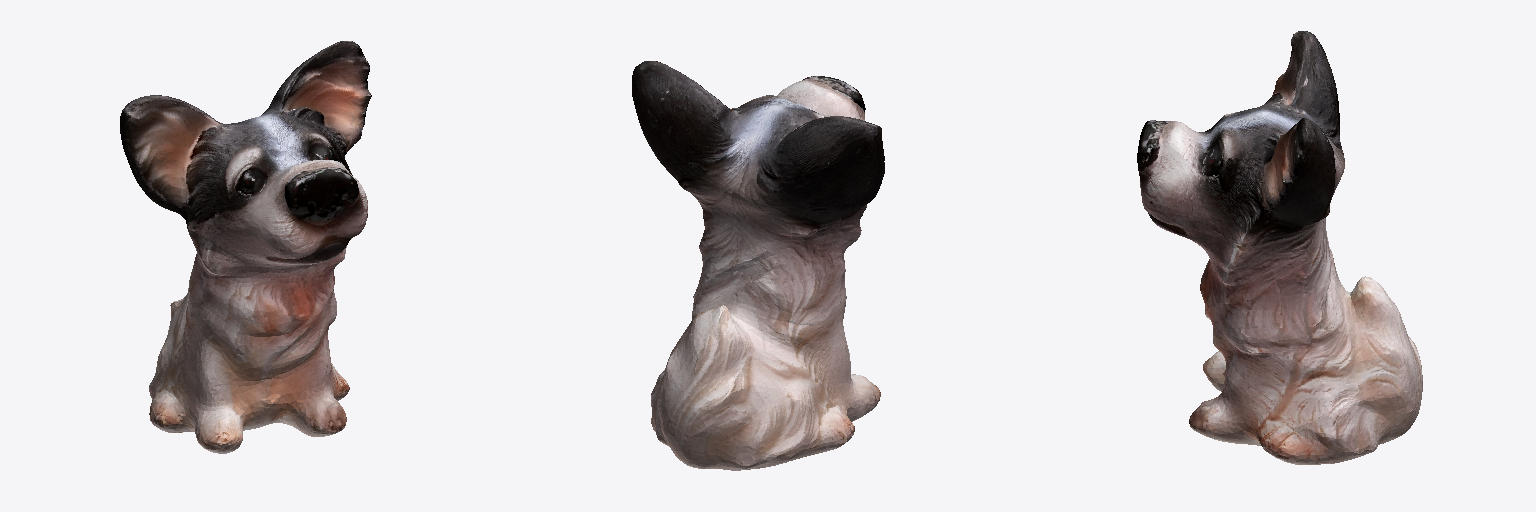
The picture shows the model from 3 angles: view 1: azimuth 30°, elevation 25°; view 2: azimuth 150°, elevation 25°; view 3: azimuth 270°, elevation 25°; orthographic projection.
Visible parts, largest first — view 1: Foto3Dmesh; view 2: Foto3Dmesh; view 3: Foto3Dmesh.
Boxes of the visible parts, box(x1,y1,x2,y2) form: Foto3Dmesh: box(120, 41, 371, 453); Foto3Dmesh: box(632, 61, 884, 470); Foto3Dmesh: box(1137, 31, 1422, 464).
Size of the model in its own units: 225 by 315 by 226.
1 materials, 1 textured.